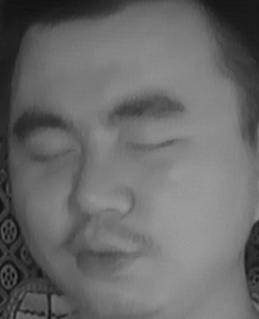blink: (122, 125, 177, 166), (28, 135, 76, 171)
mouth: (65, 227, 147, 282)
